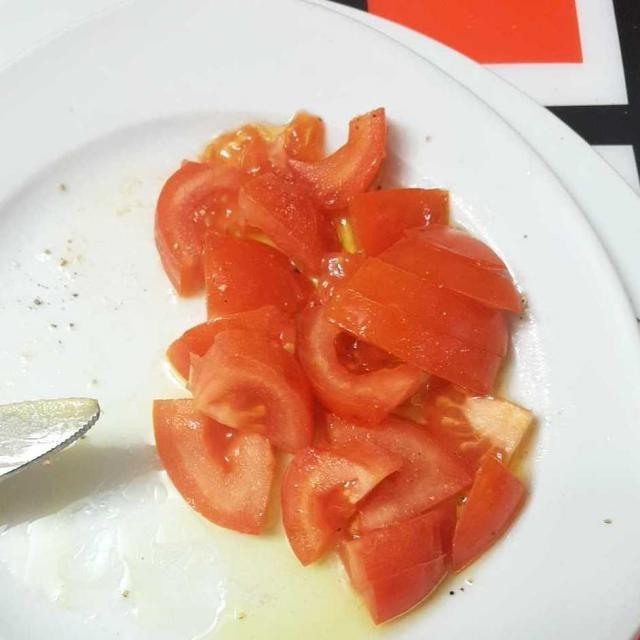tomato: (156, 123, 528, 610)
